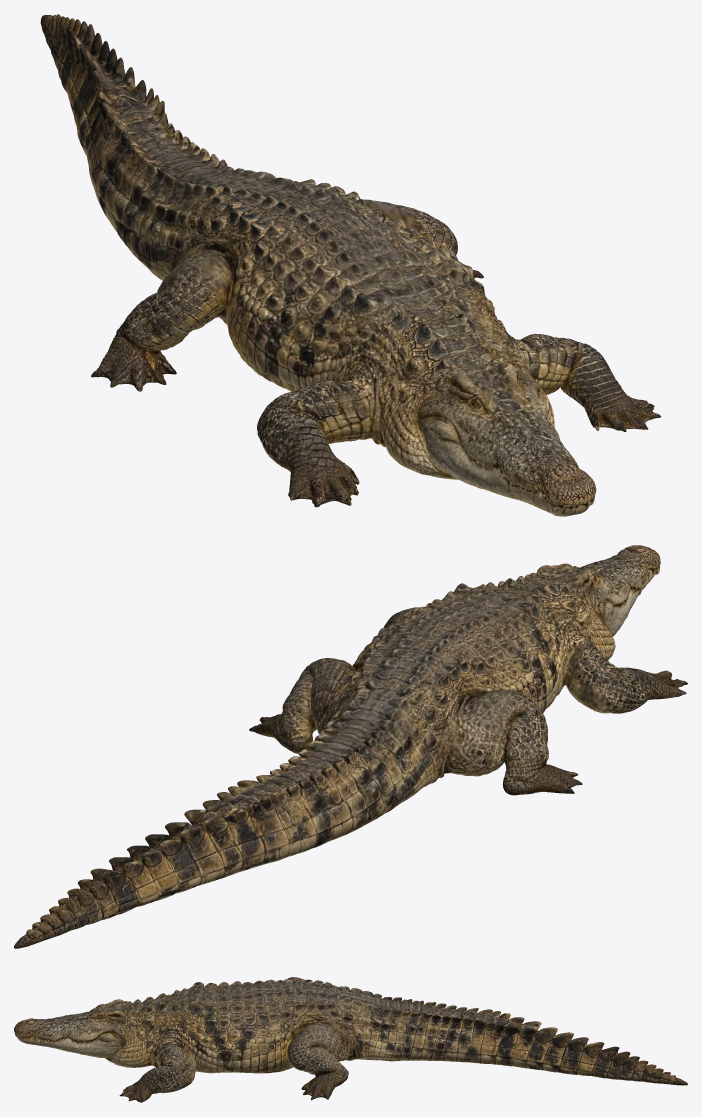
File: wild-crocodile.glb
The picture shows the model from 3 angles, top to bottom: view 1: azimuth 30°, elevation 25°; view 2: azimuth 150°, elevation 25°; view 3: azimuth 270°, elevation 25°; orthographic projection. The views are drawn at different scales.
Parts seen in each view (by area): view 1: crocodile; view 2: crocodile; view 3: crocodile.
Part boxes in pixels (<box>): crocodile: <box>40,14,661,516</box>; crocodile: <box>14,545,687,948</box>; crocodile: <box>14,977,687,1102</box>.
Size of the model in its own units: 1.53 by 0.5375 by 4.5.
Materials: 1 (1 with a texture image).
